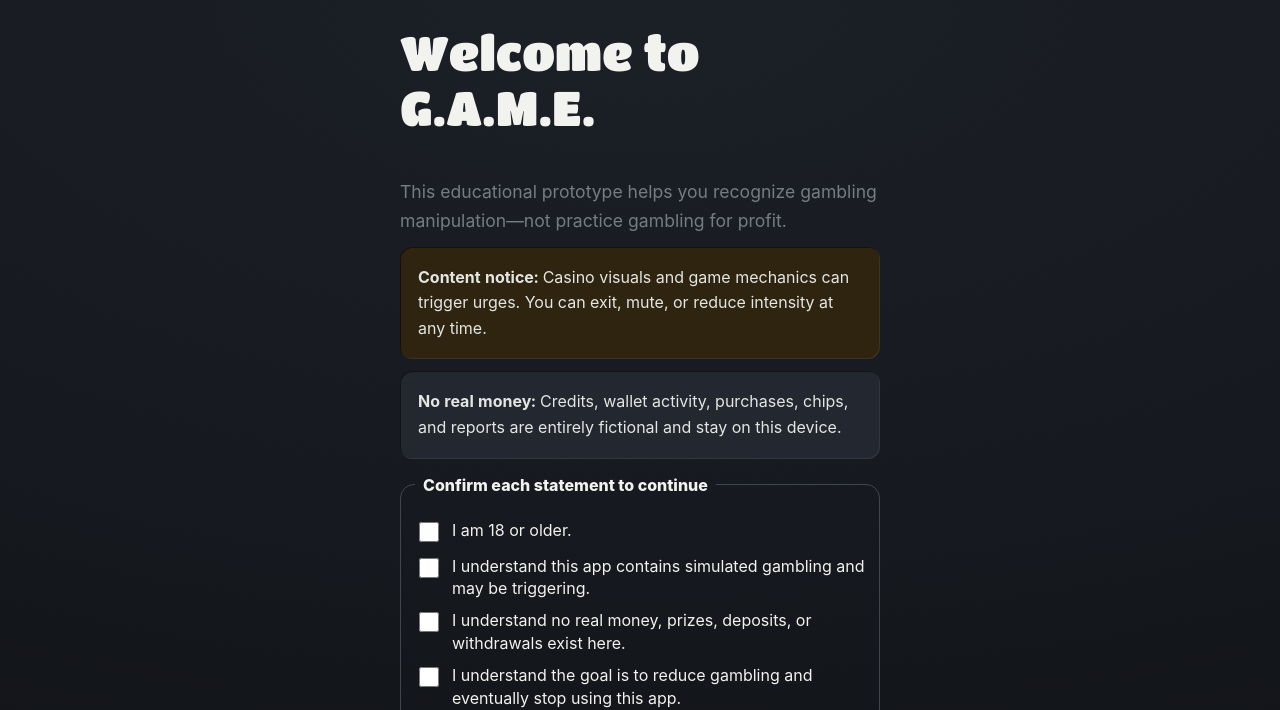
Test: G.A.M.E. safety journey › guards the simulations behind four acknowledgments
This screenshot has width=1280, height=710.
Click the checkbox labelled "I am 18 or older." at {"x": 429, "y": 532}, box [419,522,439,542]
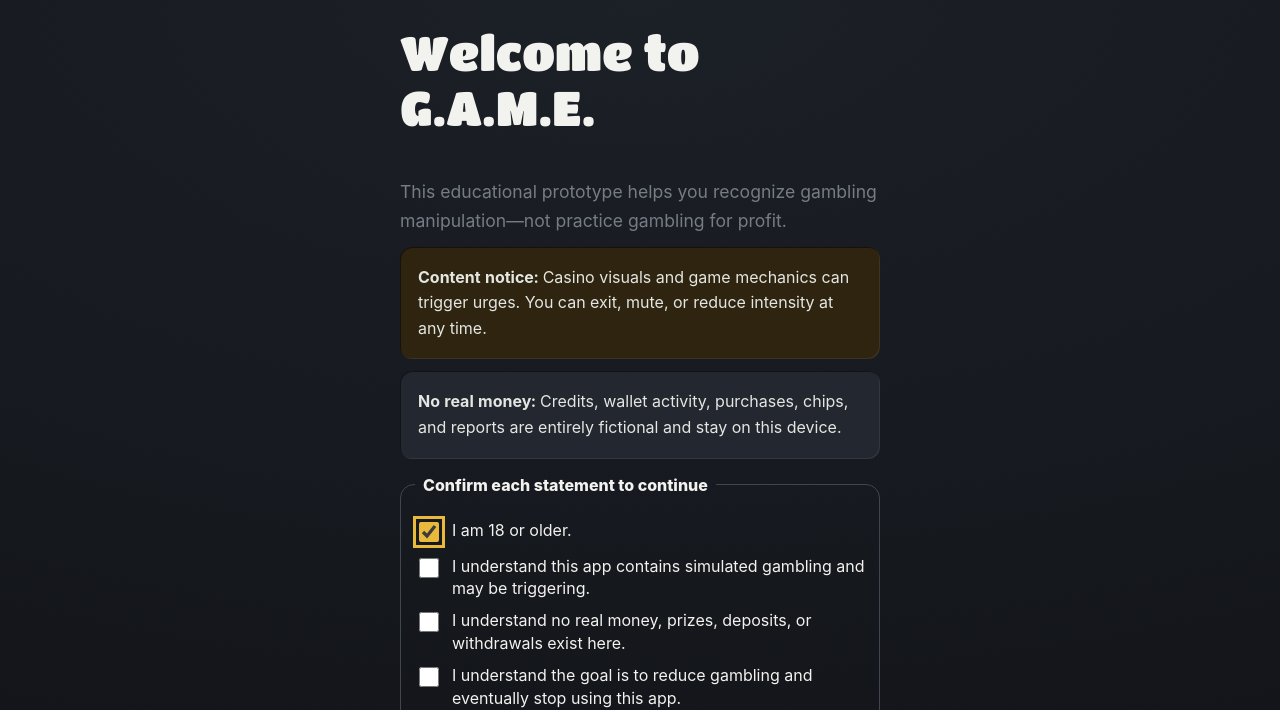
Click the 2nd checkbox at {"x": 429, "y": 568}, box [419,558,439,578]
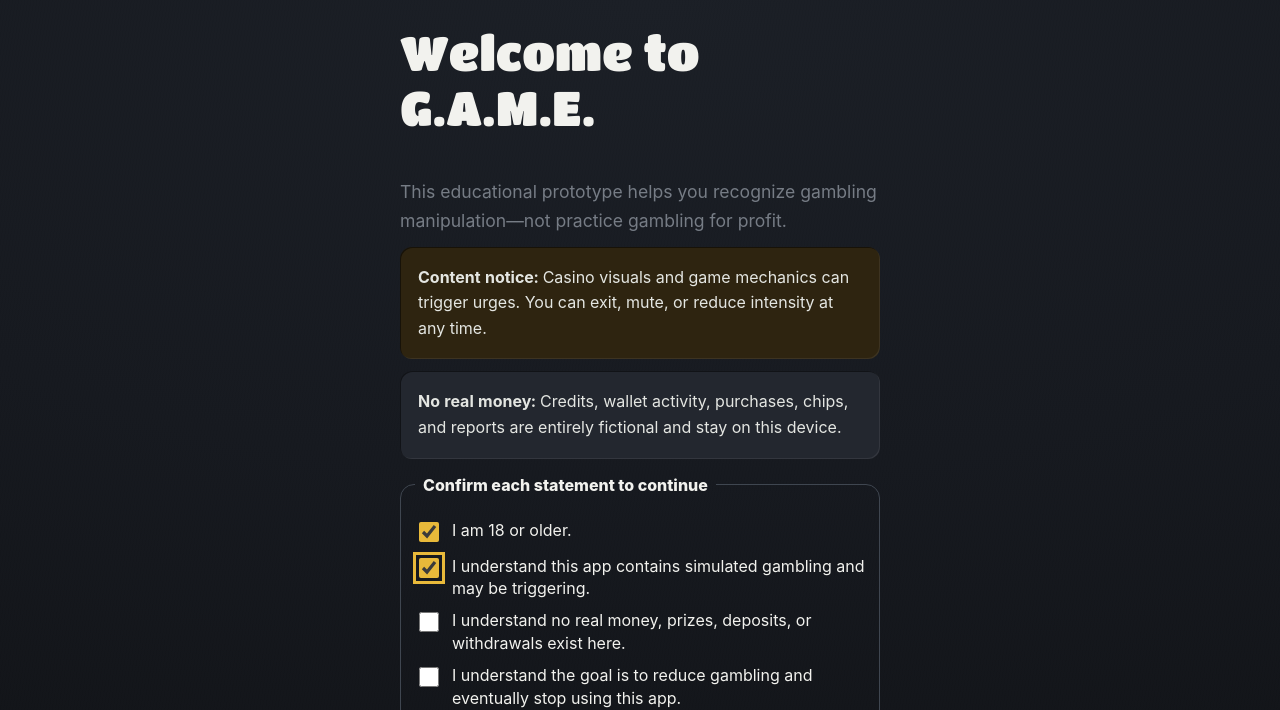
Click the 3rd checkbox at {"x": 429, "y": 622}, box [419,612,439,632]
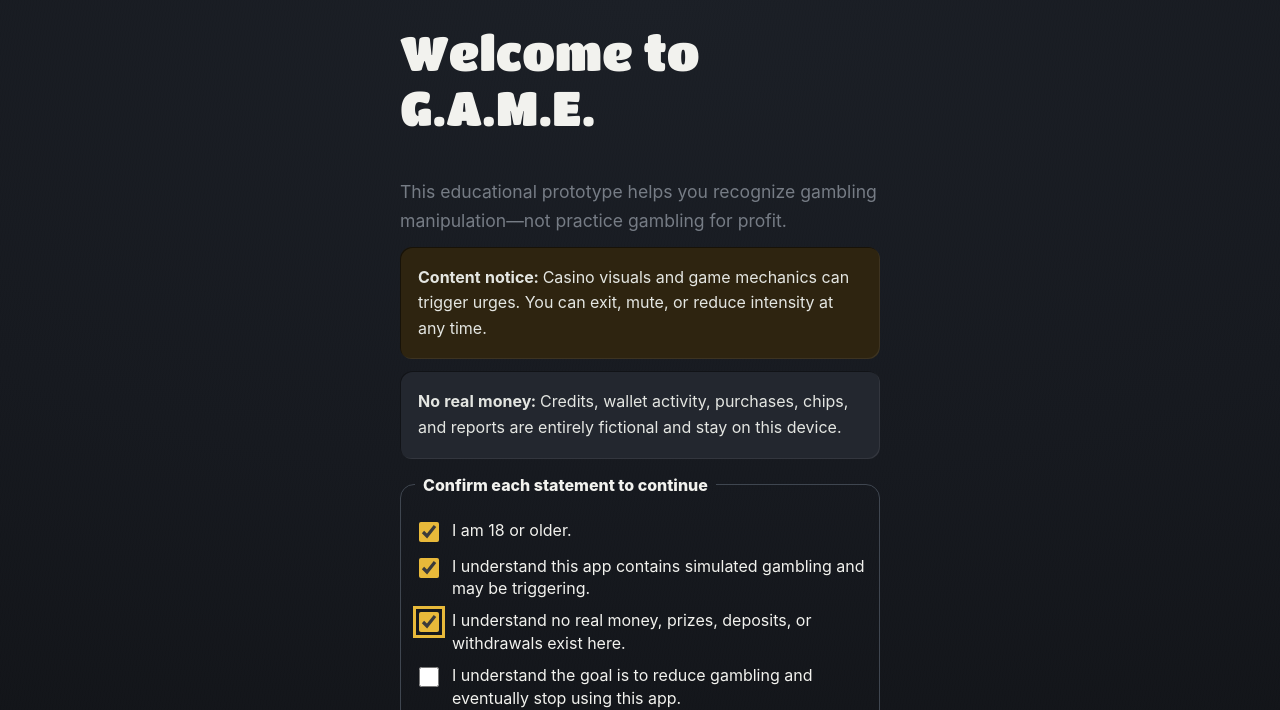
Click the 4th checkbox at {"x": 429, "y": 677}, box [419,667,439,687]
(page scrolled)
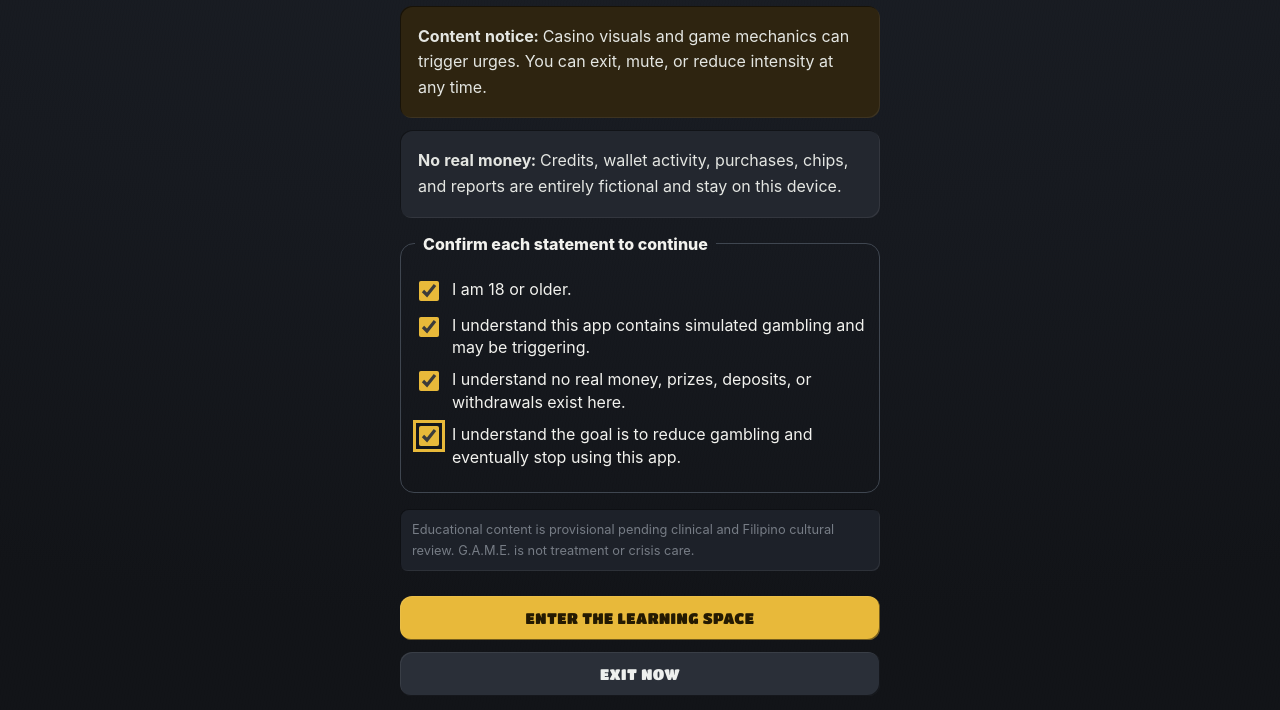
Click the button "Enter the learning space" at {"x": 640, "y": 618}, box [400,596,880,640]
(page scrolled)
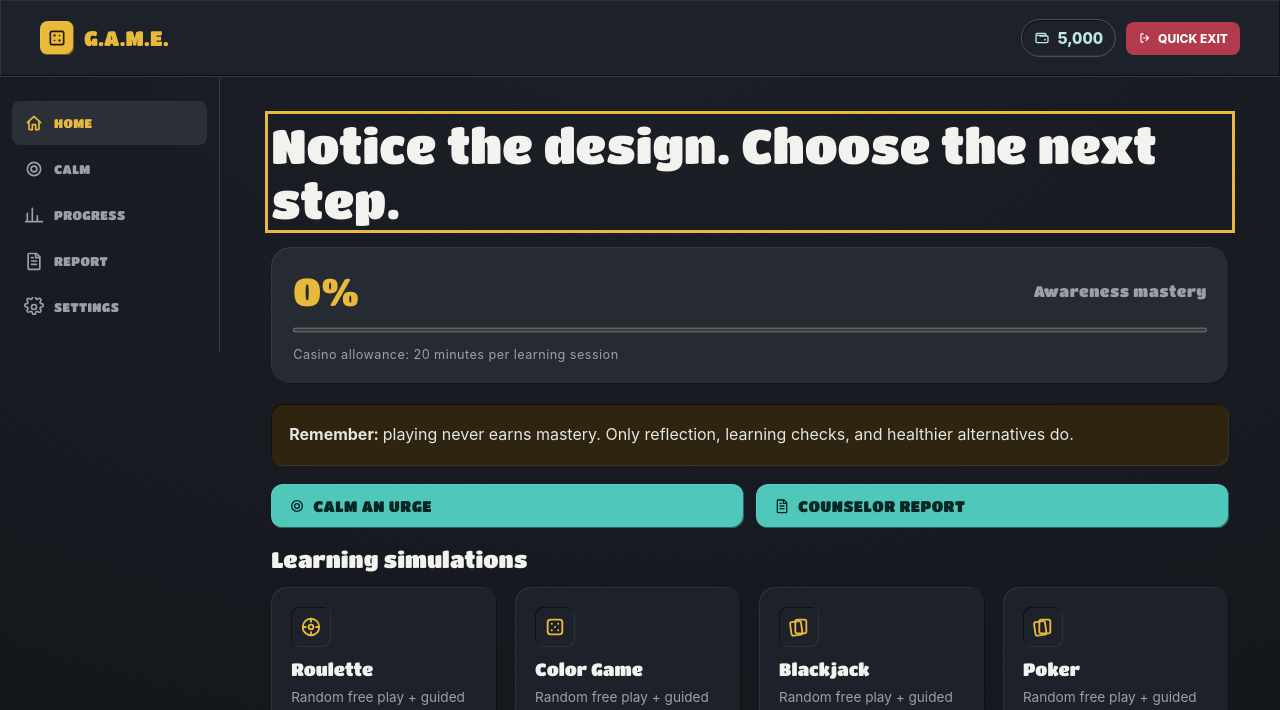
Now the heading "Notice the design. Choose the next step." is shown, box [271,117,1229,227]
